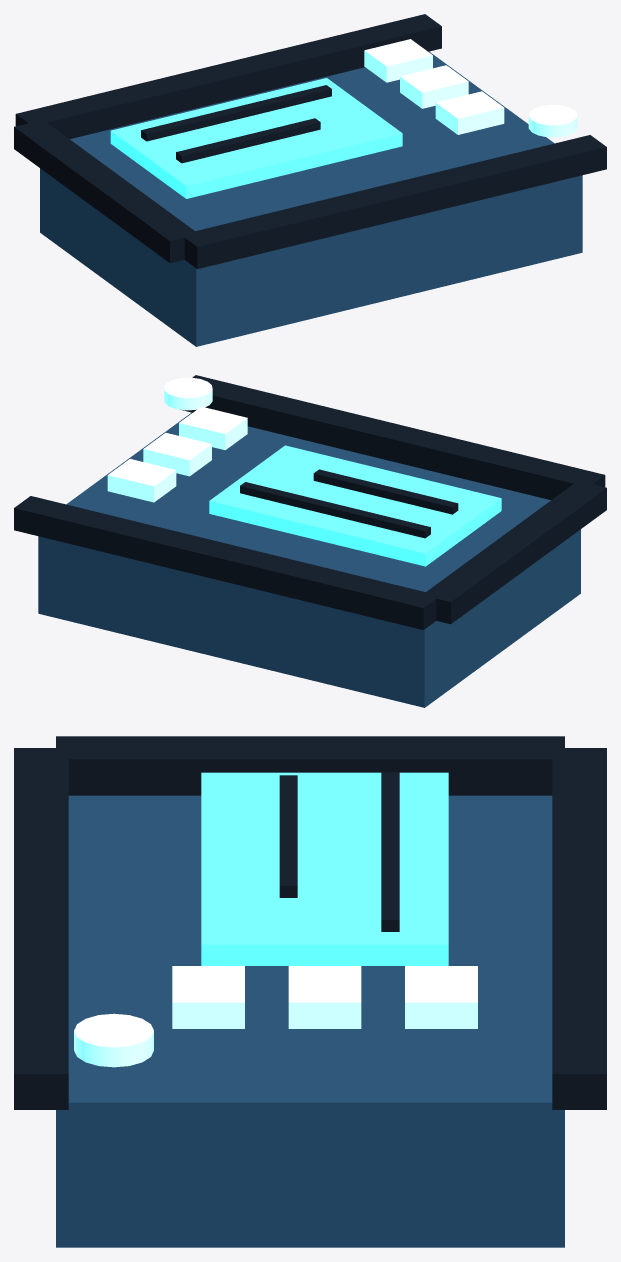
The model's file is terminal-cinematic.glb.
3 views of the same model, one above another, from view 1: azimuth 30°, elevation 25°; view 2: azimuth 150°, elevation 25°; view 3: azimuth 270°, elevation 25° (orthographic). The views are drawn at different scales.
Visible parts, largest first — view 1: terminal-shell, terminal-bottom-rim, terminal-screen, terminal-top-rim, terminal-left-rim, terminal-screen-scanline-a, terminal-button-c, terminal-button-a, terminal-button-b, terminal-screen-scanline-b, terminal-port; view 2: terminal-shell, terminal-top-rim, terminal-screen, terminal-bottom-rim, terminal-left-rim, terminal-screen-scanline-a, terminal-button-a, terminal-button-c, terminal-button-b, terminal-screen-scanline-b, terminal-port; view 3: terminal-shell, terminal-screen, terminal-left-rim, terminal-top-rim, terminal-bottom-rim, terminal-button-b, terminal-button-a, terminal-button-c, terminal-port, terminal-screen-scanline-a, terminal-screen-scanline-b.
Part boxes in pixels (bbox=[...]): terminal-shell: bbox=[40, 51, 582, 346]; terminal-bottom-rim: bbox=[181, 135, 606, 268]; terminal-screen: bbox=[110, 78, 402, 198]; terminal-top-rim: bbox=[15, 14, 441, 139]; terminal-left-rim: bbox=[14, 121, 198, 263]; terminal-screen-scanline-a: bbox=[141, 85, 331, 141]; terminal-button-c: bbox=[435, 91, 504, 134]; terminal-button-a: bbox=[364, 39, 432, 82]; terminal-button-b: bbox=[400, 65, 468, 108]; terminal-screen-scanline-b: bbox=[176, 118, 320, 163]; terminal-port: bbox=[528, 105, 577, 137]; terminal-shell: bbox=[38, 412, 580, 707]; terminal-top-rim: bbox=[14, 496, 439, 629]; terminal-screen: bbox=[209, 445, 501, 566]; terminal-bottom-rim: bbox=[180, 375, 605, 500]; terminal-left-rim: bbox=[422, 482, 606, 624]; terminal-screen-scanline-a: bbox=[240, 482, 430, 538]; terminal-button-a: bbox=[107, 459, 176, 502]; terminal-button-c: bbox=[179, 406, 247, 450]; terminal-button-b: bbox=[143, 432, 211, 476]; terminal-screen-scanline-b: bbox=[313, 469, 458, 514]; terminal-port: bbox=[164, 377, 212, 410]; terminal-shell: bbox=[56, 795, 564, 1247]; terminal-screen: bbox=[201, 772, 448, 965]; terminal-left-rim: bbox=[56, 736, 564, 795]; terminal-top-rim: bbox=[552, 748, 606, 1109]; terminal-bottom-rim: bbox=[14, 748, 68, 1109]; terminal-button-b: bbox=[288, 966, 361, 1028]; terminal-button-a: bbox=[405, 966, 477, 1028]; terminal-button-c: bbox=[172, 966, 244, 1028]; terminal-port: bbox=[74, 1013, 153, 1067]; terminal-screen-scanline-a: bbox=[381, 772, 399, 931]; terminal-screen-scanline-b: bbox=[279, 775, 297, 897].
Bounding box in the file's own units: 1.1 × 0.32 × 0.815.
